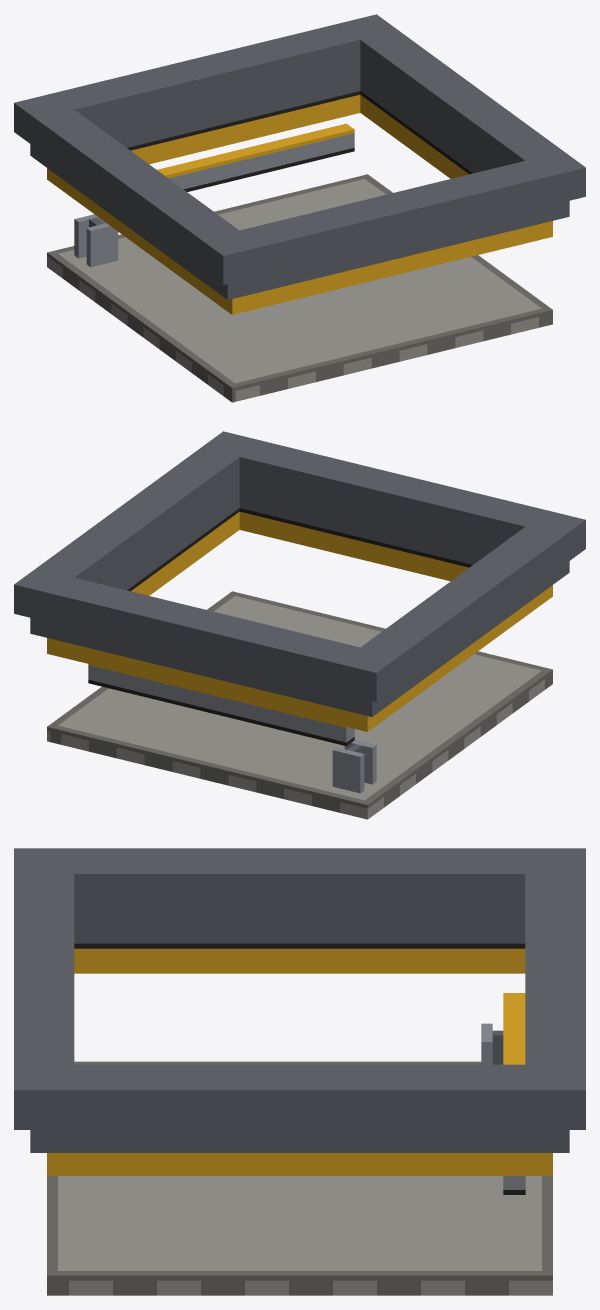
File: sm_elevator_shaft.gltf
3 views of the same model, one above another, from view 1: azimuth 30°, elevation 25°; view 2: azimuth 150°, elevation 25°; view 3: azimuth 270°, elevation 25° (orthographic). The views are drawn at different scales.
Visible parts, largest first — view 1: shaft_hood, shaft_base, shaft_beam, shaft_post; view 2: shaft_hood, shaft_base, shaft_beam, shaft_post; view 3: shaft_hood, shaft_base, shaft_beam, shaft_post.
Boxes of the visible parts, box(x1,y1,x2,y2) form: shaft_hood: box(14, 14, 585, 314); shaft_base: box(47, 174, 552, 402); shaft_beam: box(157, 123, 354, 191); shaft_post: box(74, 214, 118, 267); shaft_hood: box(14, 431, 585, 731); shaft_base: box(47, 591, 552, 819); shaft_beam: box(88, 664, 354, 746); shaft_post: box(332, 740, 376, 793); shaft_hood: box(14, 848, 585, 1175); shaft_base: box(47, 1061, 552, 1295); shaft_beam: box(503, 993, 525, 1194); shaft_post: box(481, 1023, 503, 1064).
Size of the model in its own units: 6.24 by 2.64 by 6.24.
Materials: 1 (1 with a texture image).
